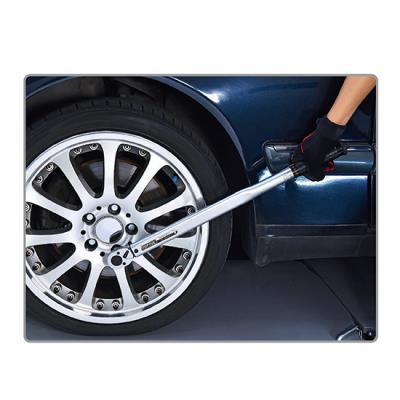Tool: (105, 247, 132, 271)
